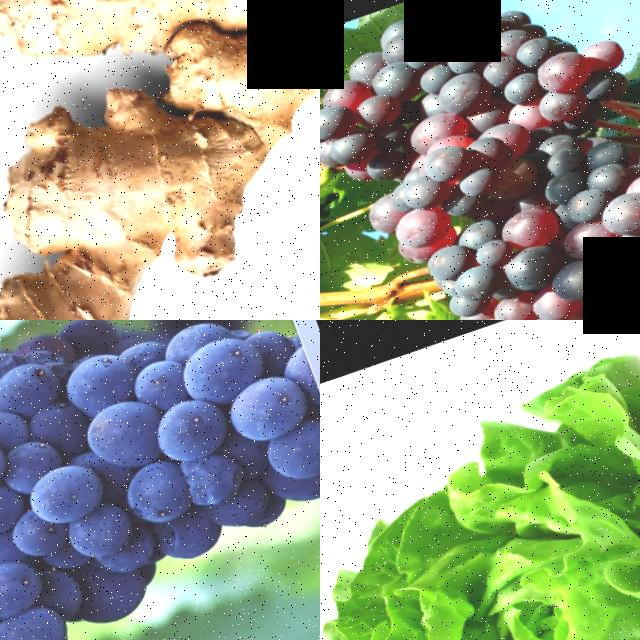ginger: (0, 0, 320, 320)
grapes: (0, 320, 320, 640), (320, 0, 640, 251), (393, 92, 640, 320)
lettuce: (320, 320, 640, 640)
